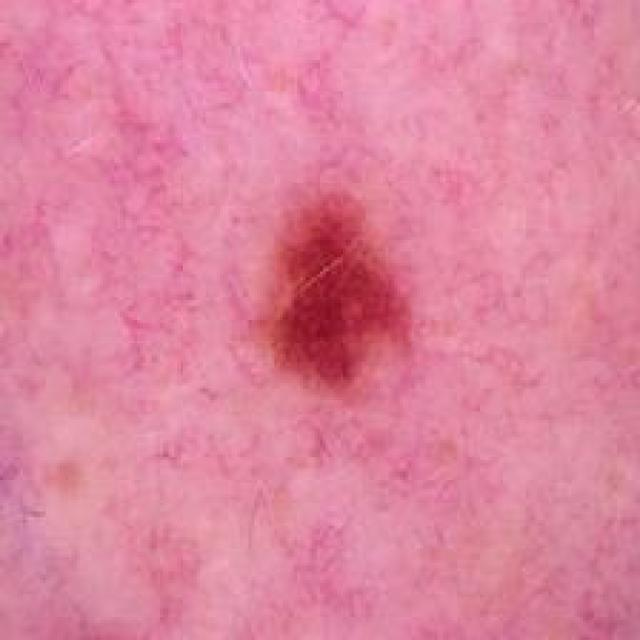Cancer: (243, 178, 426, 423)
